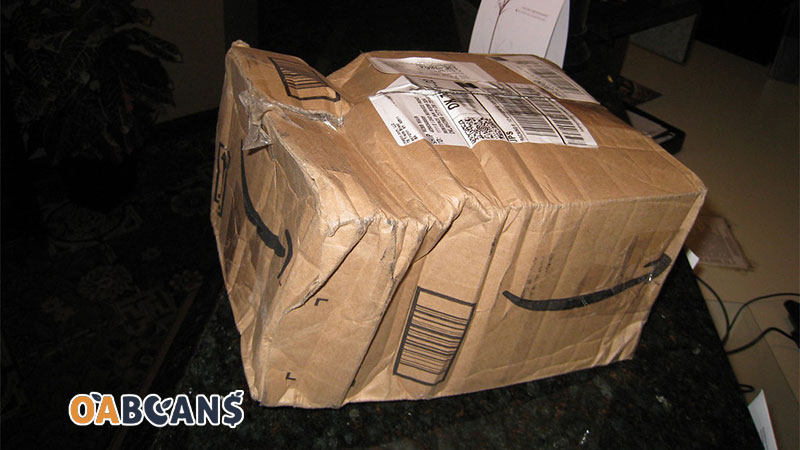damaged package: (211, 40, 533, 164)
